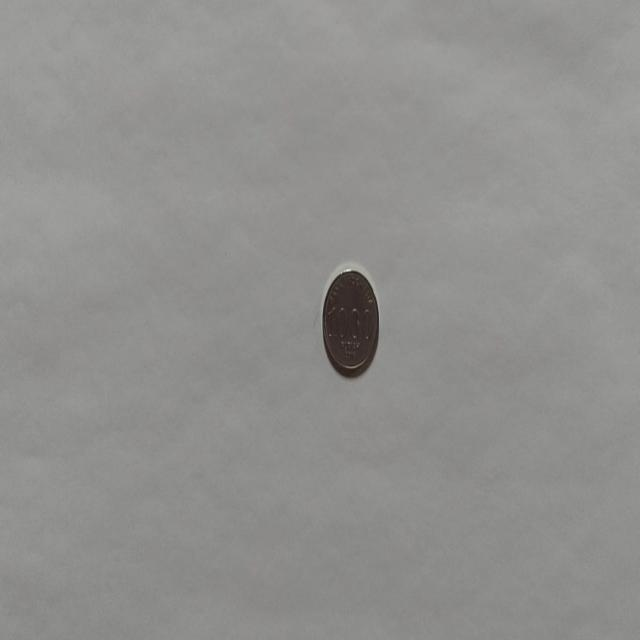seribu rupiah koin: (320, 264, 380, 378)
